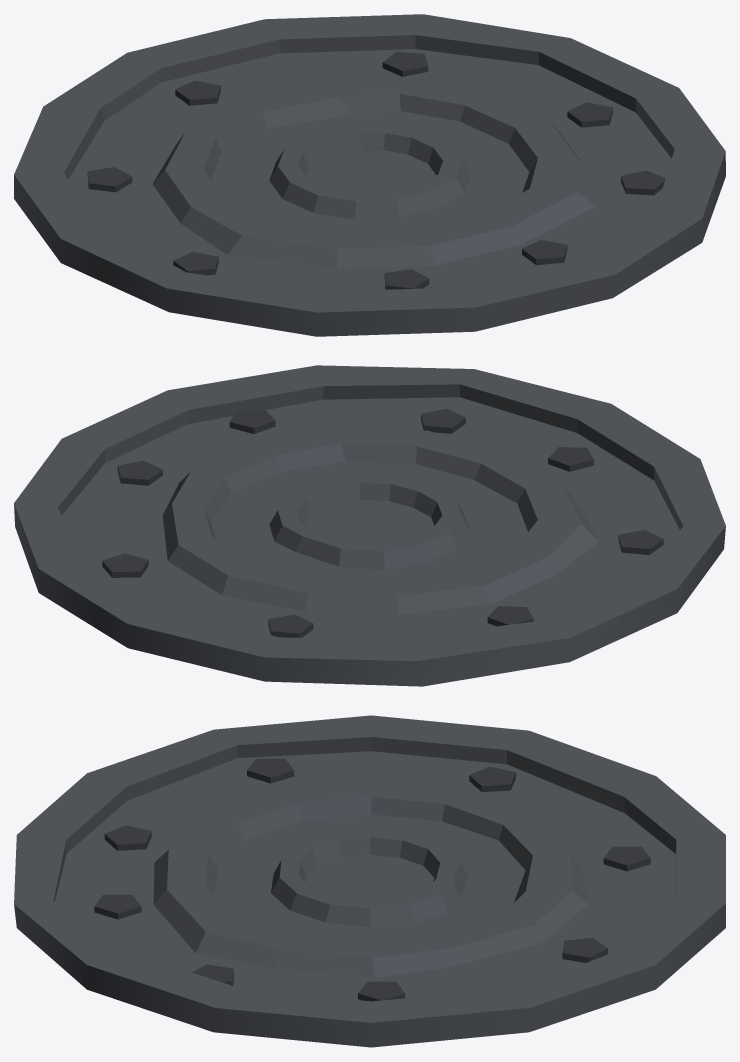
The model's file is SM_Prop_Manhole_02.fbx.
3 views of the same model, one above another, from view 1: azimuth 30°, elevation 25°; view 2: azimuth 150°, elevation 25°; view 3: azimuth 270°, elevation 25° (orthographic). The views are drawn at different scales.
Visible parts, largest first — view 1: SM_Prop_Manhole_02; view 2: SM_Prop_Manhole_02; view 3: SM_Prop_Manhole_02.
Boxes of the visible parts, x1=… form: SM_Prop_Manhole_02: x1=14, y1=14, x2=725, y2=336; SM_Prop_Manhole_02: x1=14, y1=365, x2=725, y2=686; SM_Prop_Manhole_02: x1=14, y1=715, x2=725, y2=1047.
Size of the model in its own units: 111 by 4.23 by 108.
